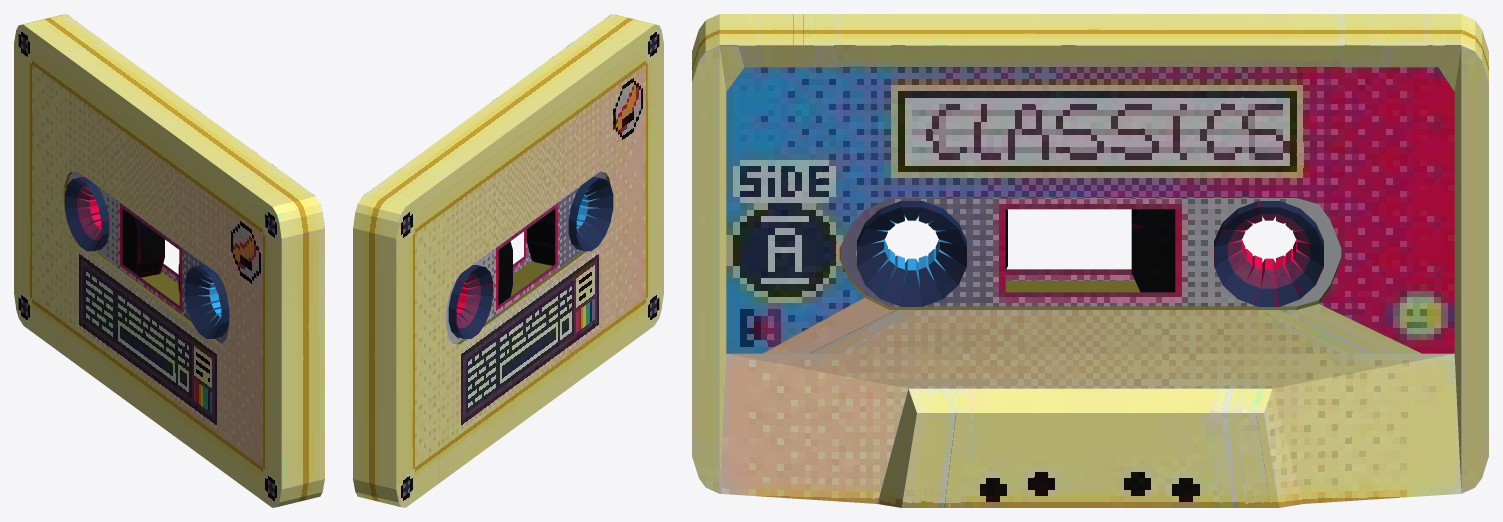
The model's file is cassette.glb.
The picture shows the model from 3 angles, left to right: view 1: azimuth 30°, elevation 25°; view 2: azimuth 150°, elevation 25°; view 3: azimuth 270°, elevation 25°; orthographic projection. The views are drawn at different scales.
Visible parts, largest first — view 1: cube_Case.png_0, cylinder_1_Cylinder 2 (big).png_0, plane_Face 1.png_0, cylinder_Cylinder 1 (small).png_0; view 2: cube_Case.png_0, cylinder_Cylinder 1 (small).png_0, cylinder_1_Cylinder 2 (big).png_0, plane_Face 1.png_0; view 3: cube_Case.png_0, plane_Face 1.png_0, cylinder_1_Cylinder 2 (big).png_0, cylinder_Cylinder 1 (small).png_0.
Part boxes in pixels (x1,y1,x2,y2): cube_Case.png_0: [14, 14, 324, 507]; cylinder_1_Cylinder 2 (big).png_0: [64, 177, 164, 277]; plane_Face 1.png_0: [68, 171, 229, 343]; cylinder_Cylinder 1 (small).png_0: [178, 264, 229, 338]; cube_Case.png_0: [353, 14, 663, 507]; cylinder_Cylinder 1 (small).png_0: [526, 177, 613, 265]; cylinder_1_Cylinder 2 (big).png_0: [448, 241, 512, 338]; plane_Face 1.png_0: [446, 171, 606, 343]; cube_Case.png_0: [692, 14, 1488, 507]; plane_Face 1.png_0: [840, 198, 1341, 306]; cylinder_1_Cylinder 2 (big).png_0: [1131, 201, 1323, 306]; cylinder_Cylinder 1 (small).png_0: [857, 201, 1007, 306].
Bounding box in the file's own units: 0.1823 × 0.8053 × 1.29.
5 materials, 4 textured.
